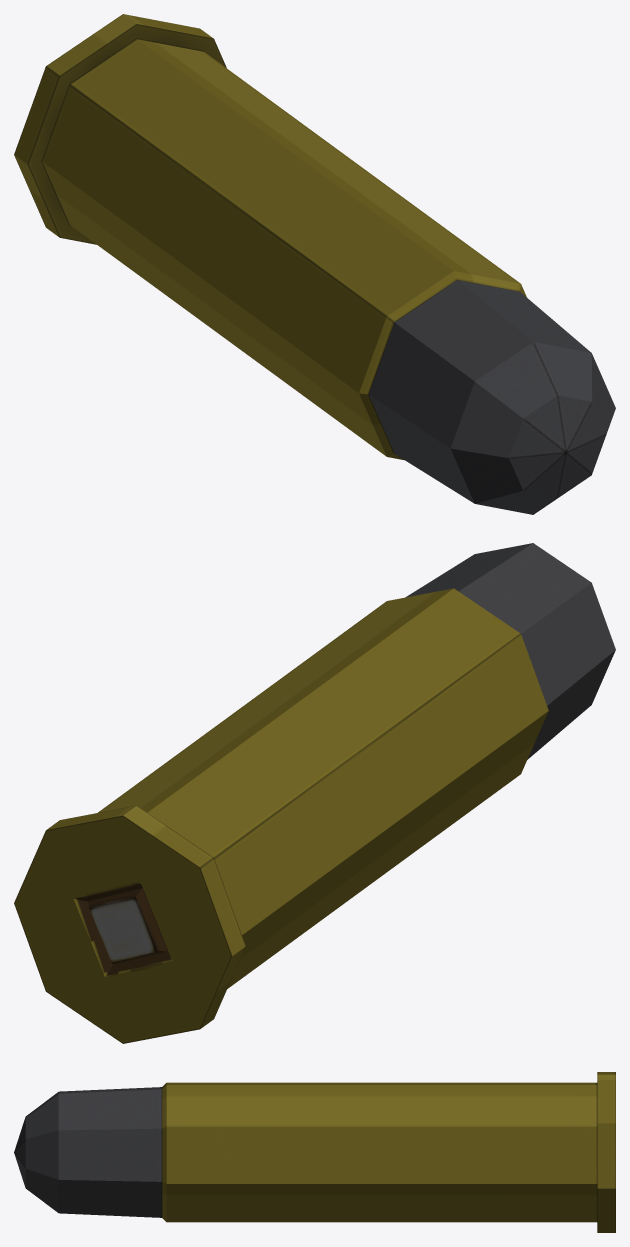
The model's file is 35_special_round_z_up.FBX.
3 views of the same model, one above another, from view 1: azimuth 30°, elevation 25°; view 2: azimuth 150°, elevation 25°; view 3: azimuth 270°, elevation 25° (orthographic). The views are drawn at different scales.
Visible parts, largest first — view 1: Cylinder02; view 2: Cylinder02; view 3: Cylinder02.
Boxes of the visible parts, x1,y1,x2,y2 form: Cylinder02: (14,14,615,514); Cylinder02: (14,543,615,1043); Cylinder02: (14,1072,615,1232).
Bounding box in the file's own units: 0.011 × 0.0388 × 0.011.
Materials: 1 (1 with a texture image).
